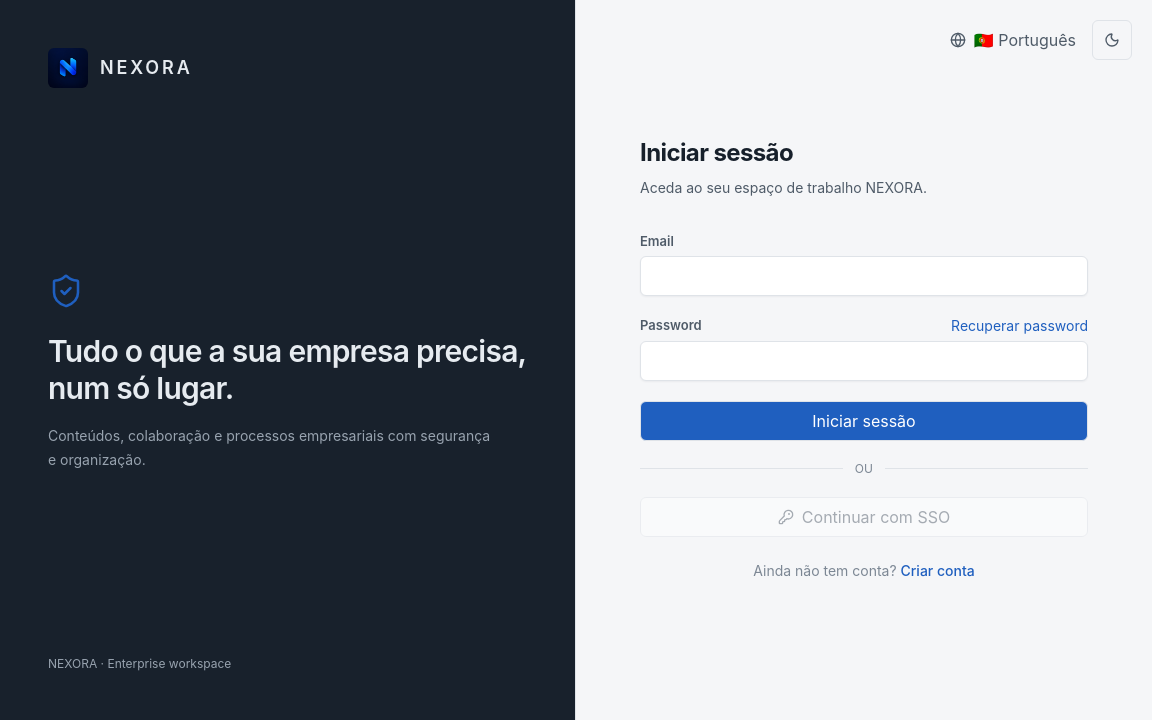
Test: LoginPage › shows the API error message on failure
The image size is (1152, 720).
In the field labelled "Email": [864, 276] box [640,256,1088,296], type "t@nexora.app"
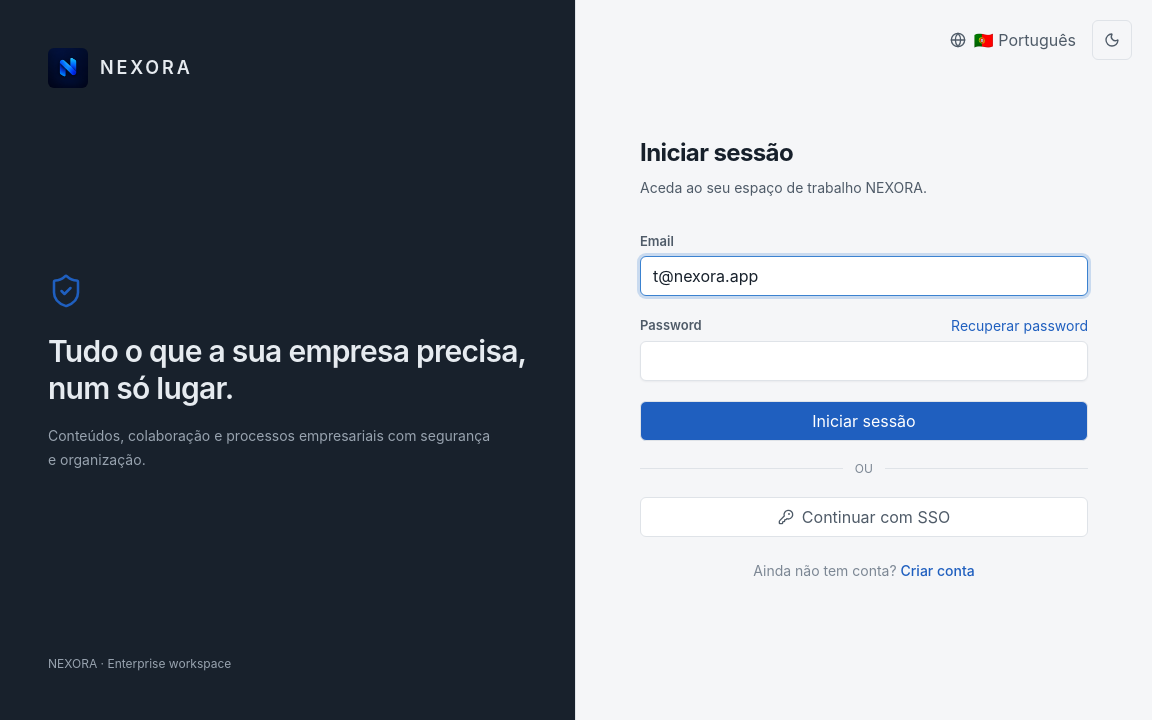
In the password field labelled "Password": [864, 361] box [640,341,1088,381], type "wrong-password"
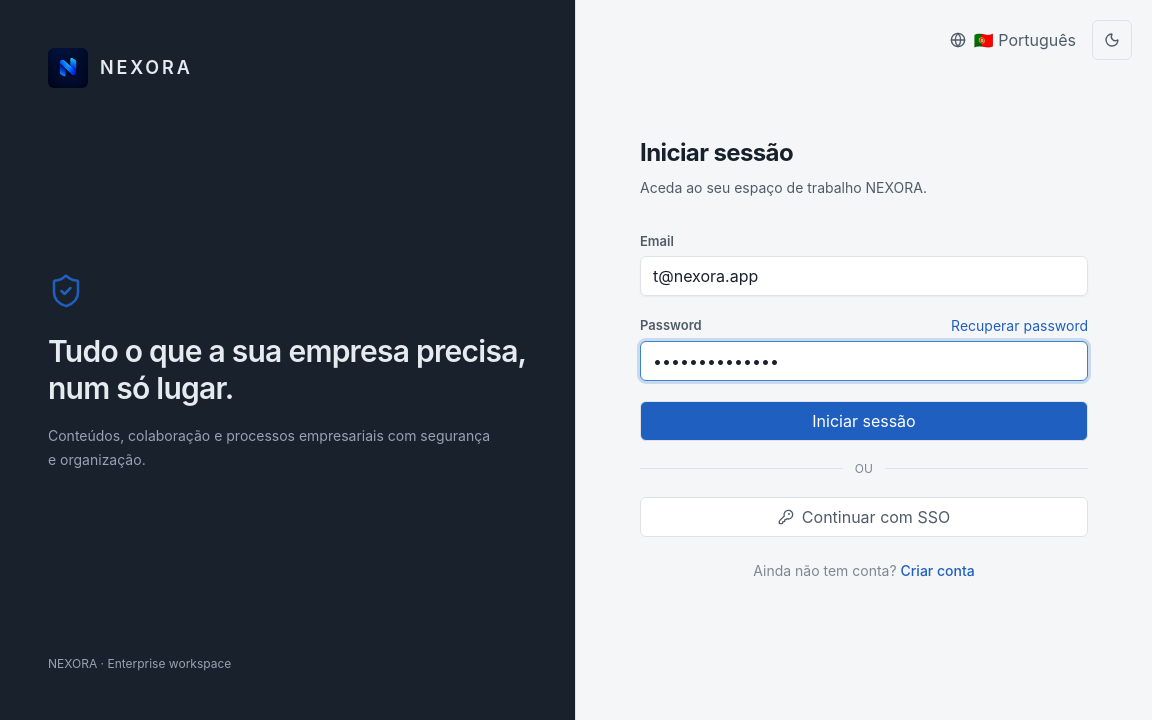
Click the button "Iniciar sessão": [864, 421] box [640,401,1088,441]
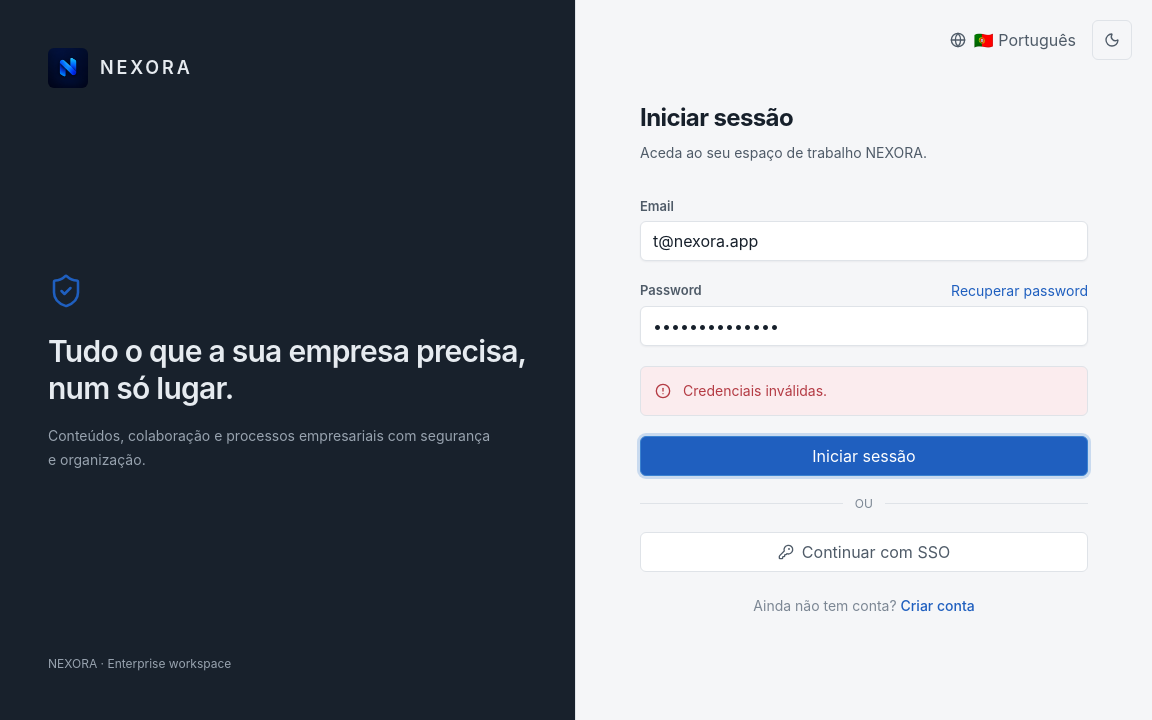
Now the text "Credenciais inválidas." is shown, box [683,381,827,401]
